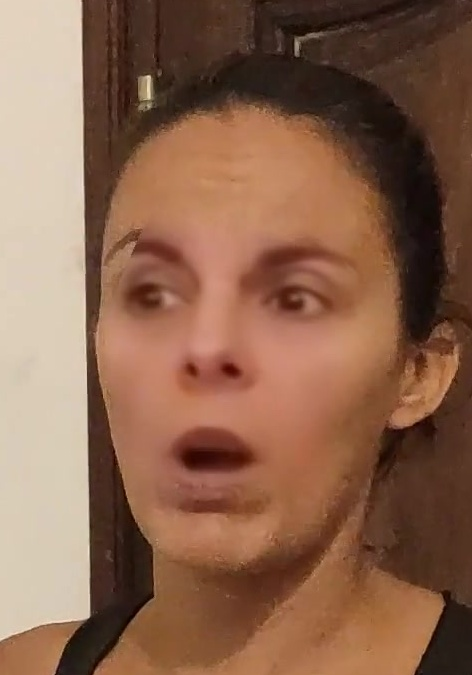eb_f: (96, 219, 381, 330)
